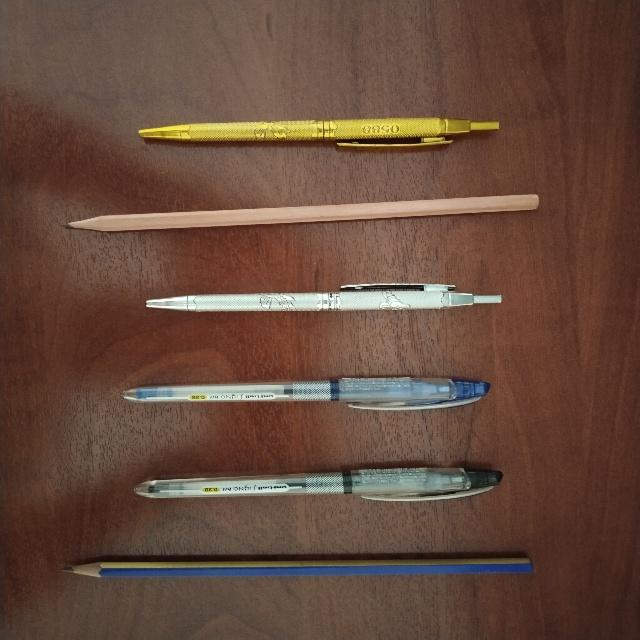pen: (135, 467, 502, 500), (122, 377, 489, 409)
pencil: (68, 194, 538, 231), (65, 558, 532, 577)
signature pen: (139, 117, 498, 147), (146, 283, 501, 311)
